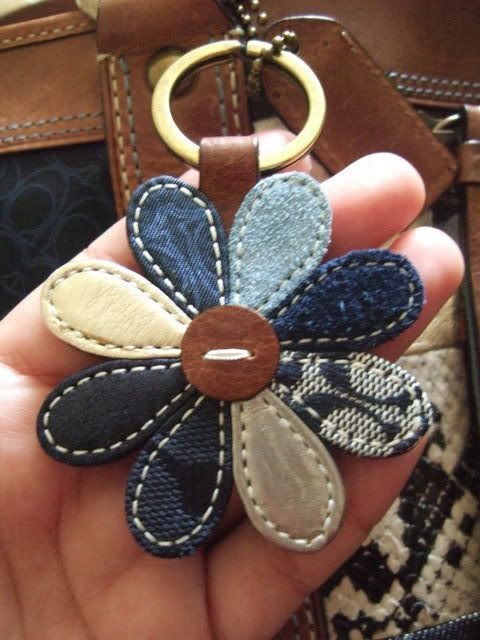cuero: (1, 1, 480, 554)
